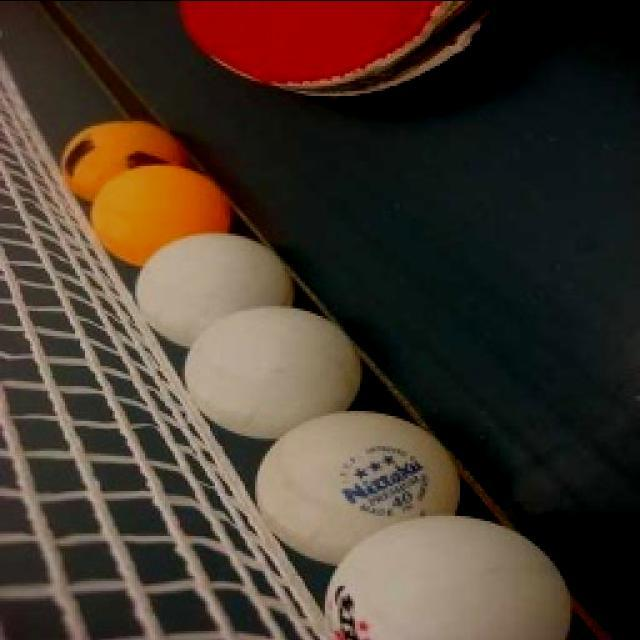oball: (92, 159, 238, 267), (62, 120, 208, 202)
